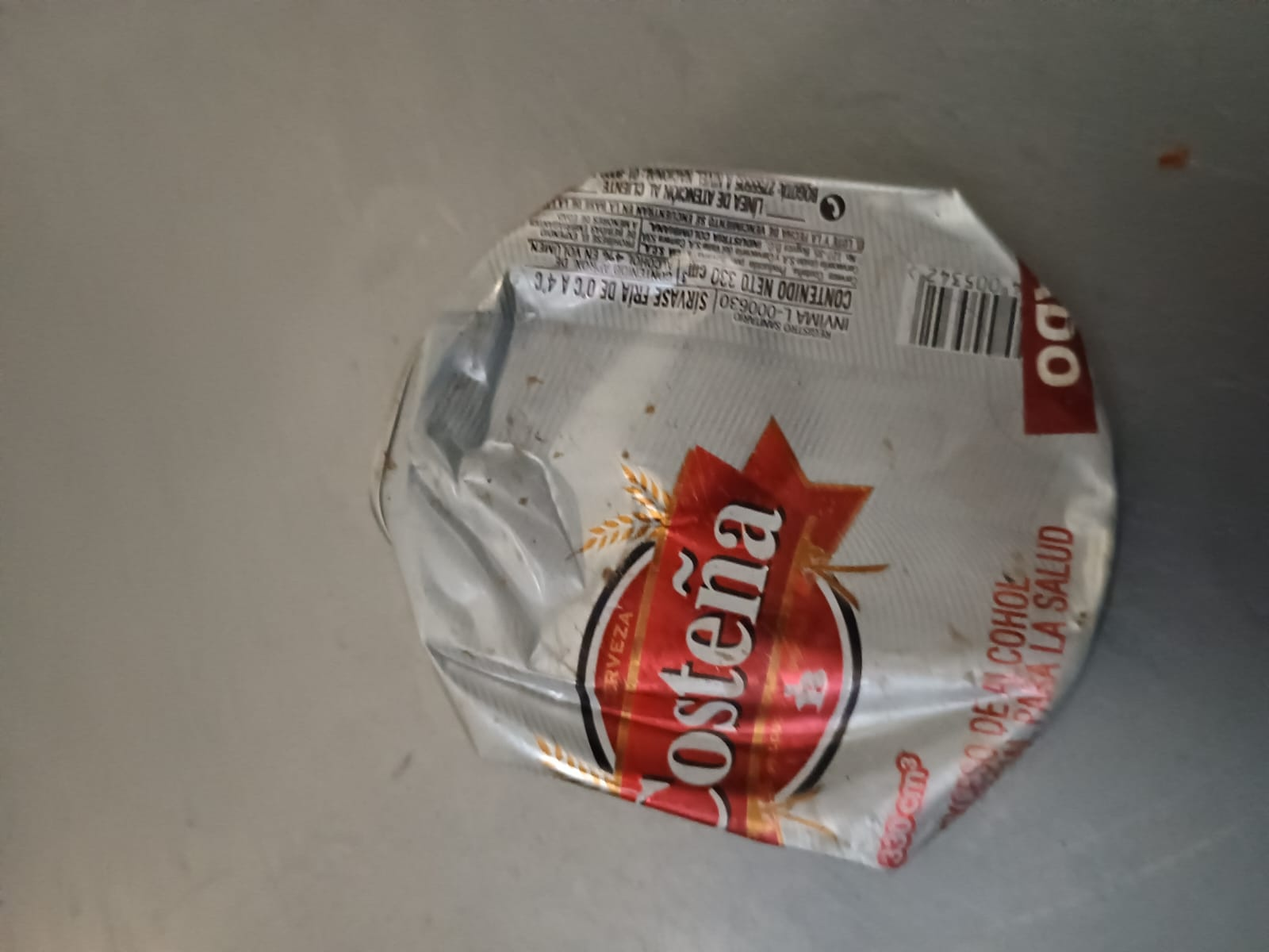Metal: (369, 161, 1119, 870)
